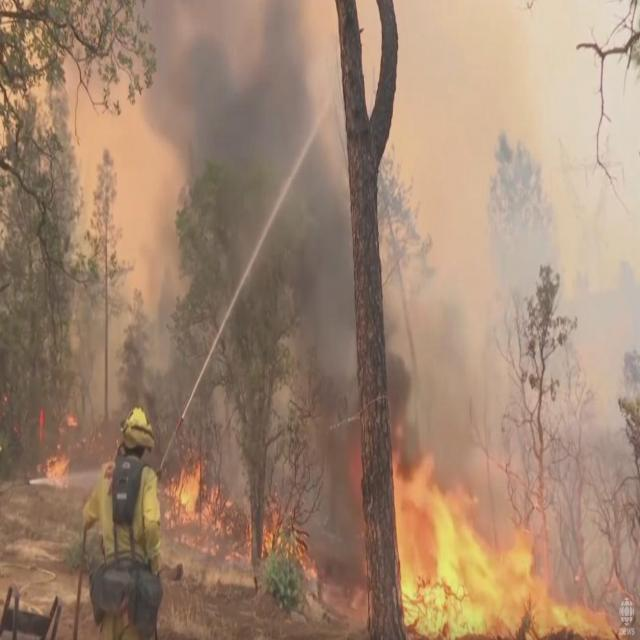Fire: (388, 444, 614, 636), (167, 449, 321, 594), (41, 436, 73, 496), (66, 404, 78, 426)
